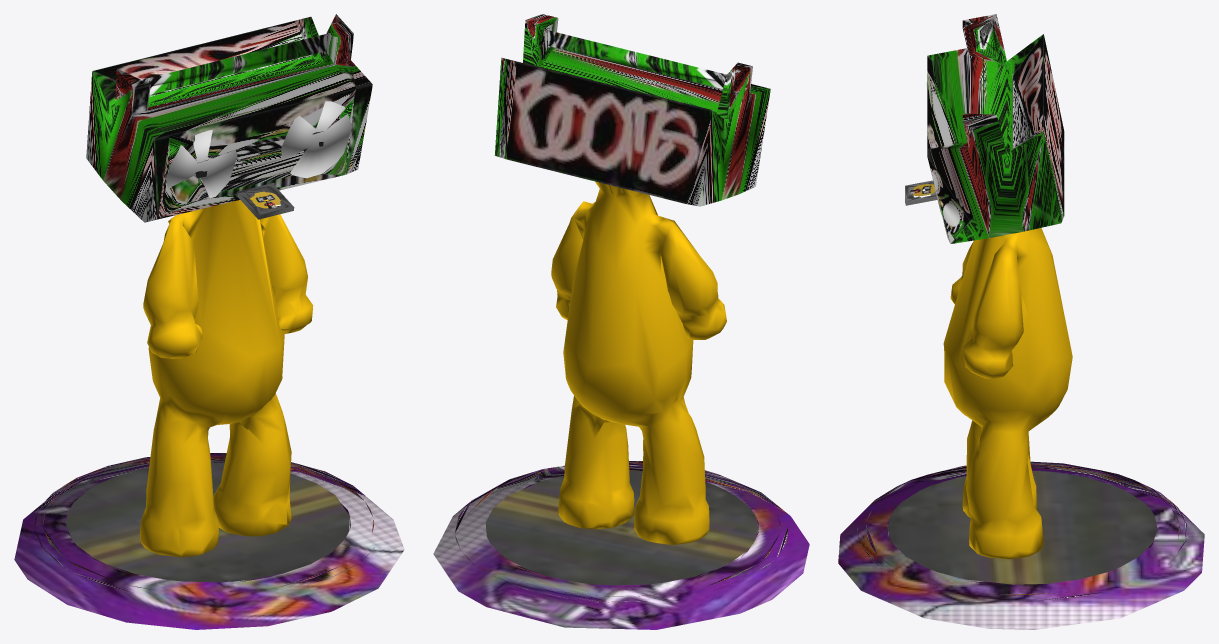
3 views of the same model, side by side, from view 1: azimuth 30°, elevation 25°; view 2: azimuth 150°, elevation 25°; view 3: azimuth 270°, elevation 25° (orthographic). The views are drawn at different scales.
Size of the model in its own units: 1.44 by 2.09 by 1.42.
10 materials, 4 textured.
